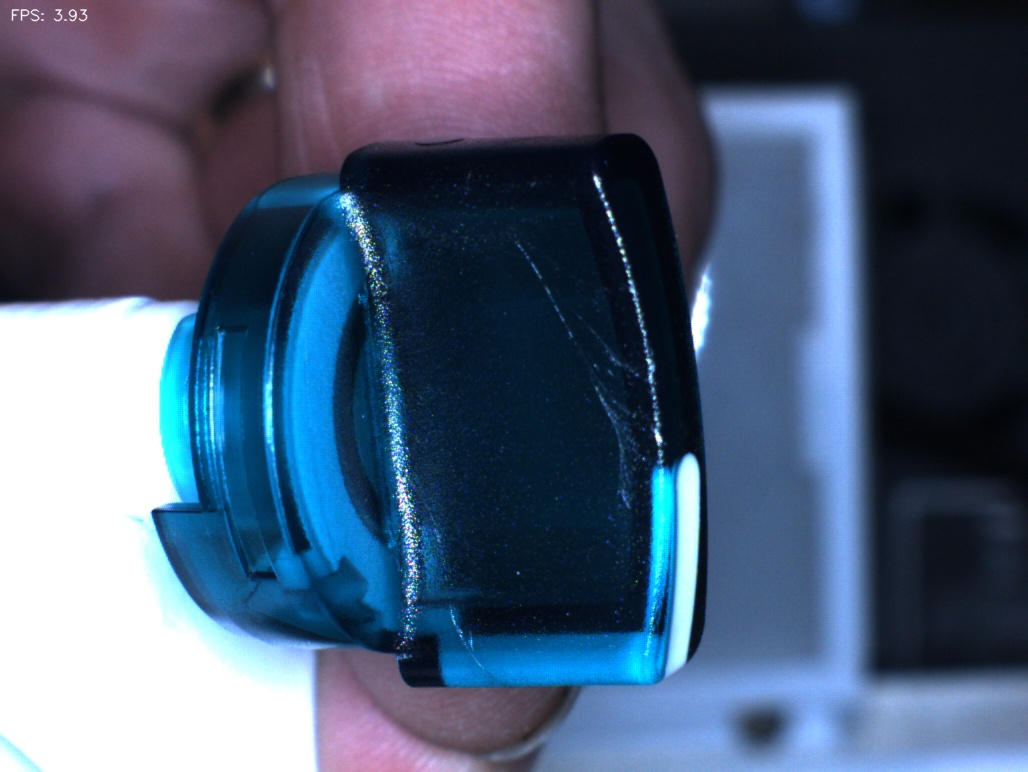Givrage: (505, 250, 662, 497)
